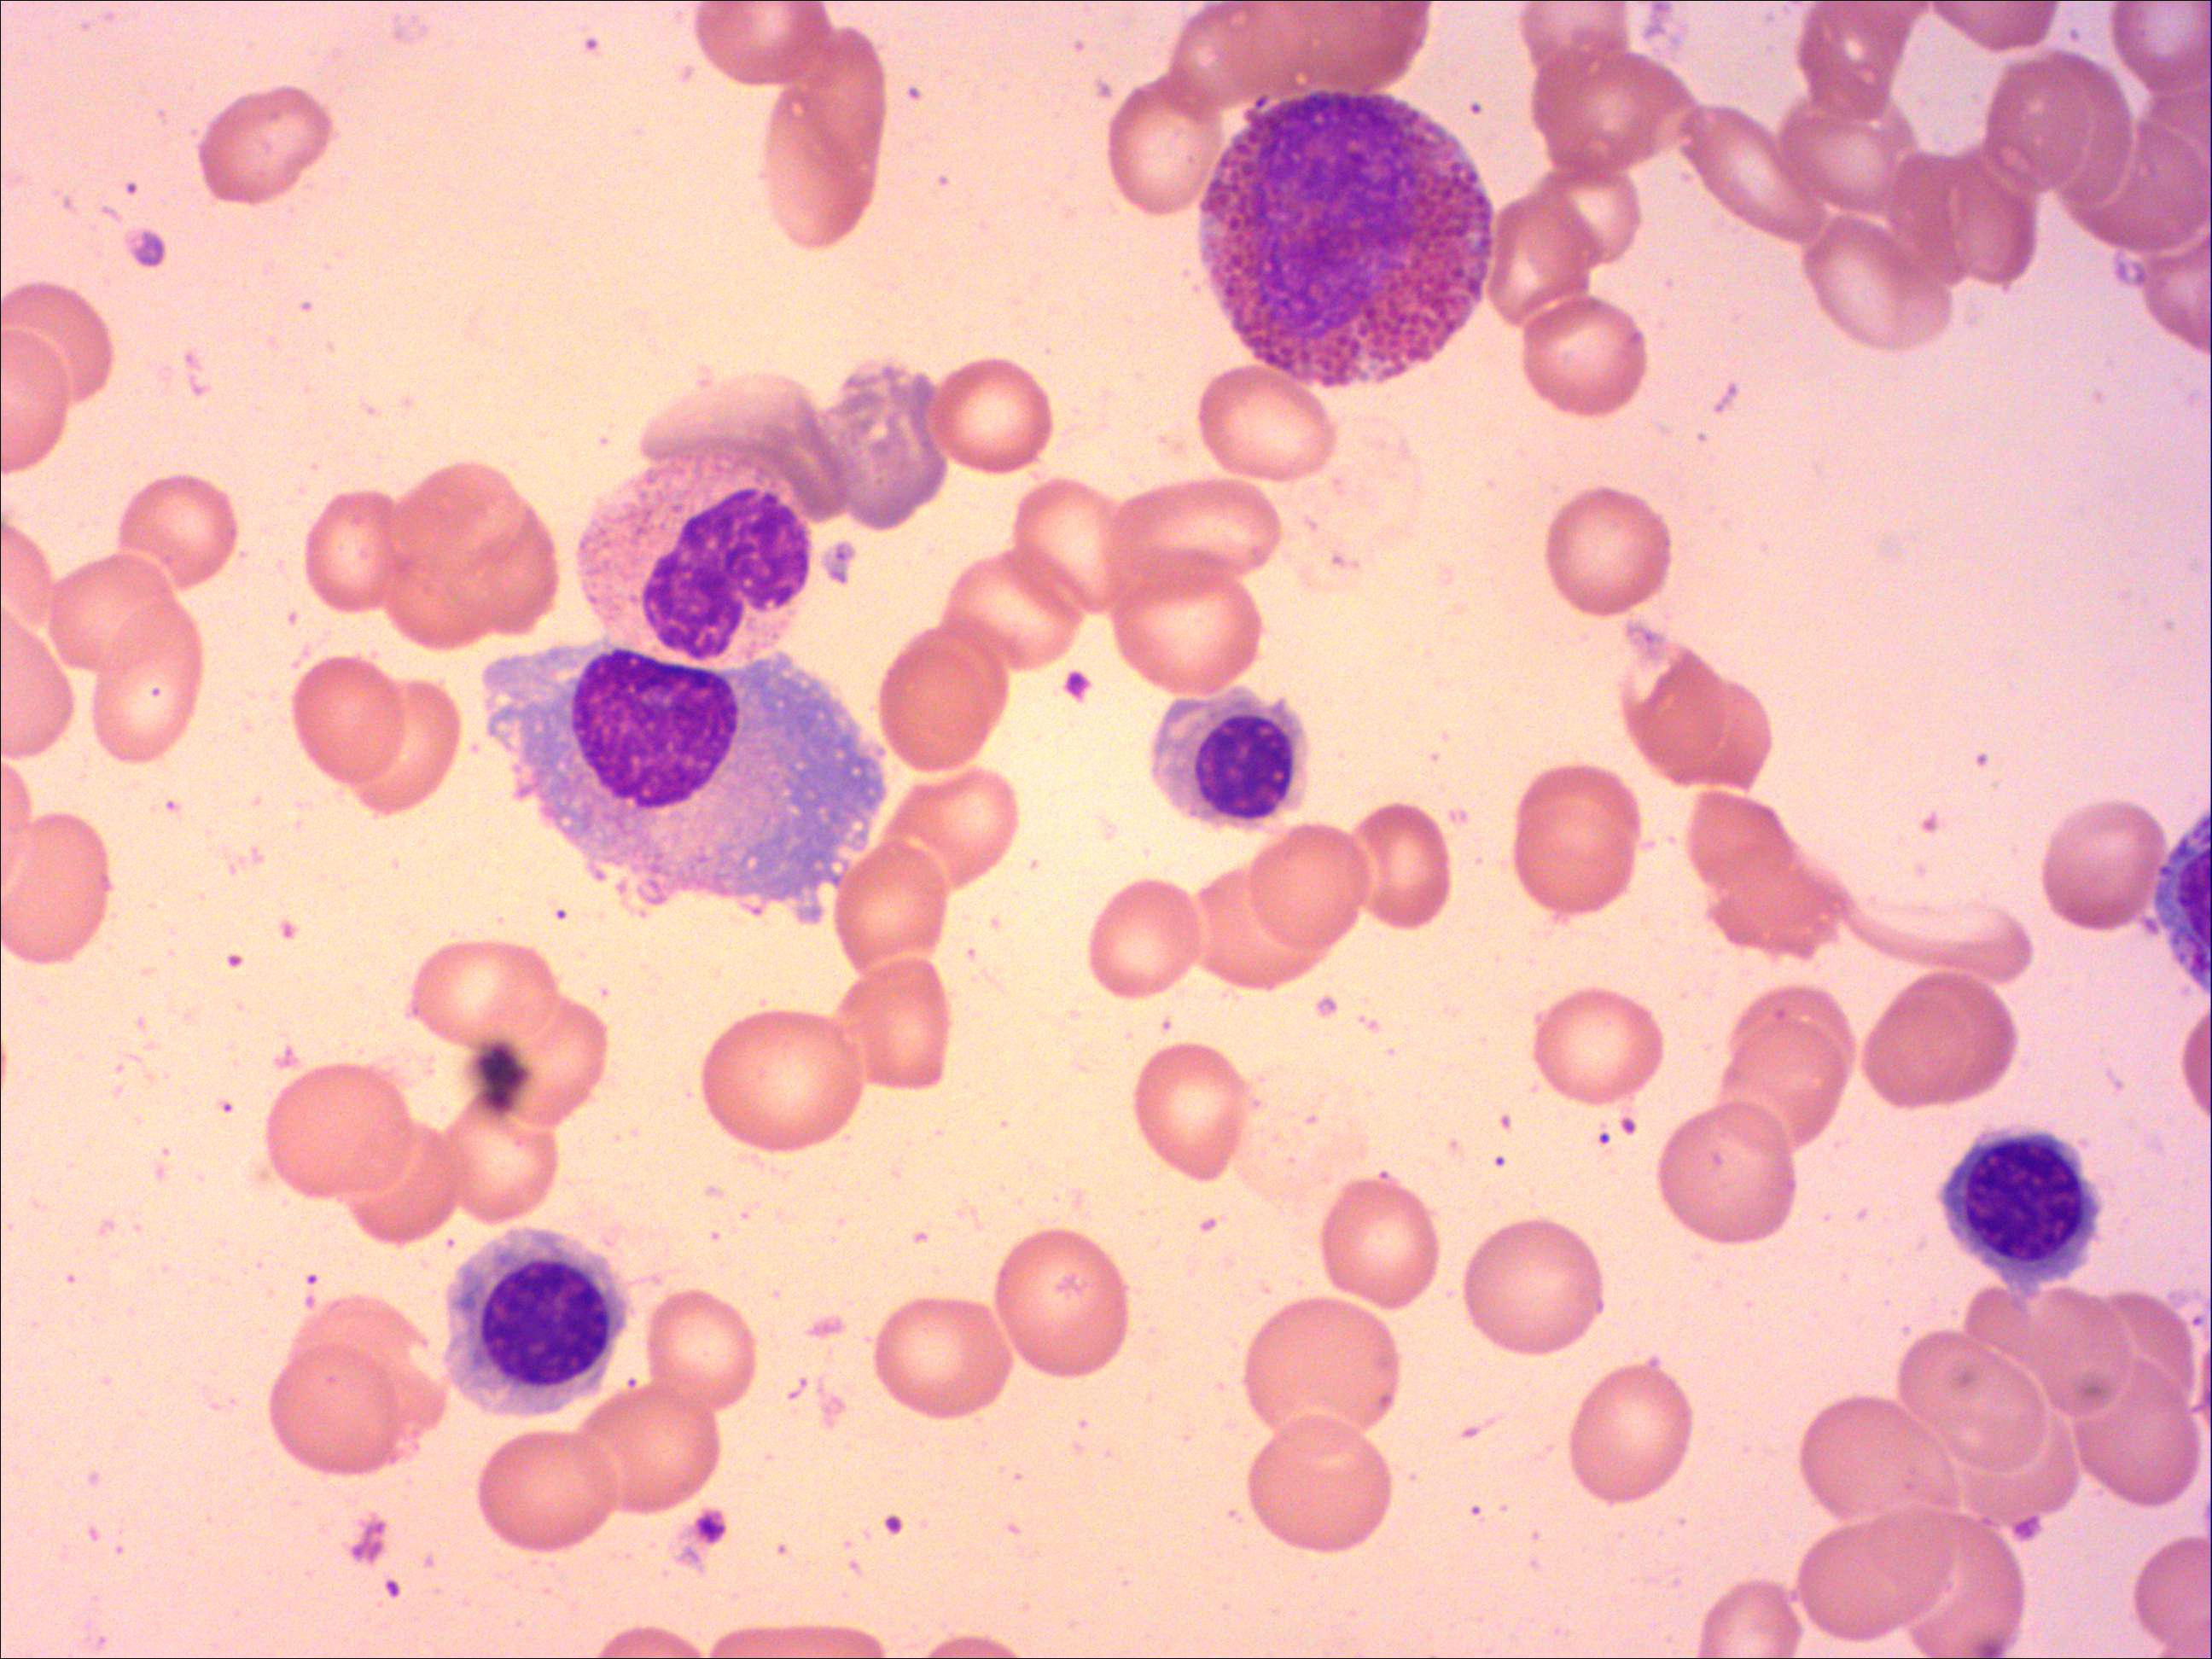24: (435, 1222, 634, 1424), (1932, 1121, 2111, 1302), (1144, 680, 1315, 845)
4: (571, 443, 819, 673)
51: (479, 631, 895, 929)
E4: (1195, 84, 1503, 399)
